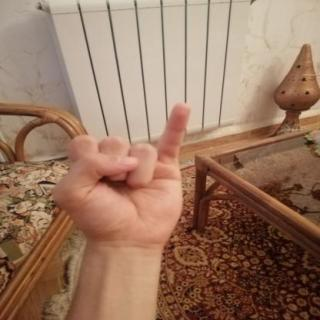MEEM: (36, 95, 211, 260)
